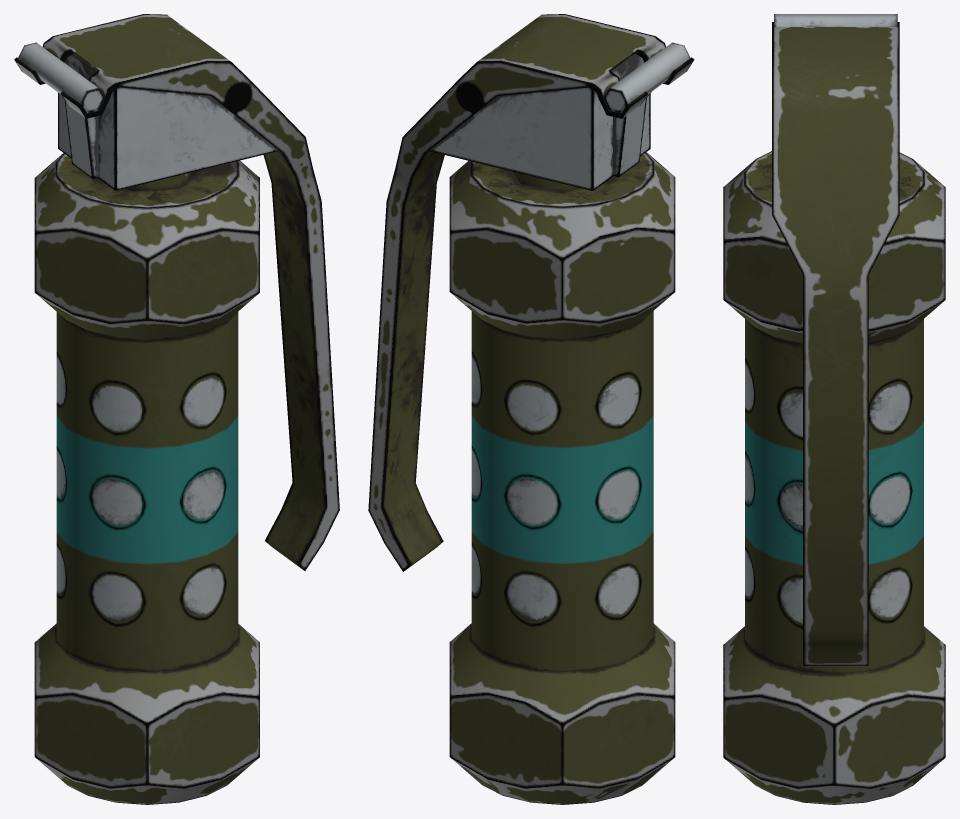
File: GrenadeFlash_noPin.fbx
3 renders of one model, left to right at view 1: azimuth 30°, elevation 25°; view 2: azimuth 150°, elevation 25°; view 3: azimuth 270°, elevation 25°, orthographic.
Visible parts, largest first — view 1: GrenadeFlash; view 2: GrenadeFlash; view 3: GrenadeFlash.
Part boxes in pixels (left/top/right/bottom): GrenadeFlash: left=14, top=14, right=339, bottom=804; GrenadeFlash: left=368, top=14, right=694, bottom=804; GrenadeFlash: left=723, top=14, right=945, bottom=804.
Size of the model in its own units: 8.04 by 19.15 by 5.43.
